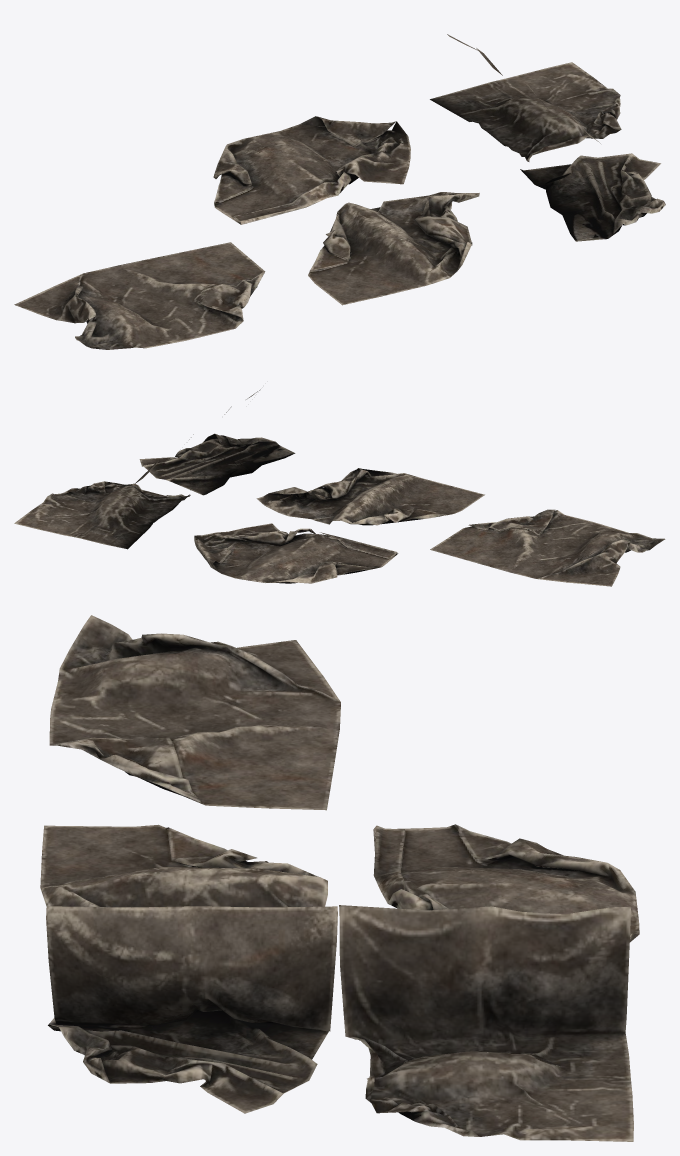
File: rags.glb
The picture shows the model from 3 angles, top to bottom: view 1: azimuth 30°, elevation 25°; view 2: azimuth 150°, elevation 25°; view 3: azimuth 270°, elevation 25°; orthographic projection. The views are drawn at different scales.
Visible parts, largest first — view 1: cloth_03, cloth_05, cloth_04, cloth_02, cloth_01; view 2: cloth_03, cloth_05, cloth_04, cloth_02, cloth_01; view 3: cloth_02, cloth_01, cloth_03, cloth_04, cloth_05.
Boxes of the visible parts, bbox=[...] form: cloth_03: bbox=[14, 242, 265, 349]; cloth_05: bbox=[213, 116, 410, 224]; cloth_04: bbox=[308, 192, 479, 305]; cloth_02: bbox=[430, 34, 621, 161]; cloth_01: bbox=[520, 84, 665, 241]; cloth_03: bbox=[430, 509, 665, 586]; cloth_05: bbox=[194, 523, 398, 583]; cloth_04: bbox=[256, 468, 484, 525]; cloth_02: bbox=[14, 434, 193, 549]; cloth_01: bbox=[139, 389, 295, 495]; cloth_02: bbox=[339, 905, 633, 1141]; cloth_01: bbox=[46, 906, 337, 1113]; cloth_03: bbox=[49, 615, 340, 810]; cloth_04: bbox=[40, 824, 327, 907]; cloth_05: bbox=[373, 824, 639, 942].
Bounding box in the file's own units: 8.13 × 1.01 × 4.09.
1 material, 1 textured.
